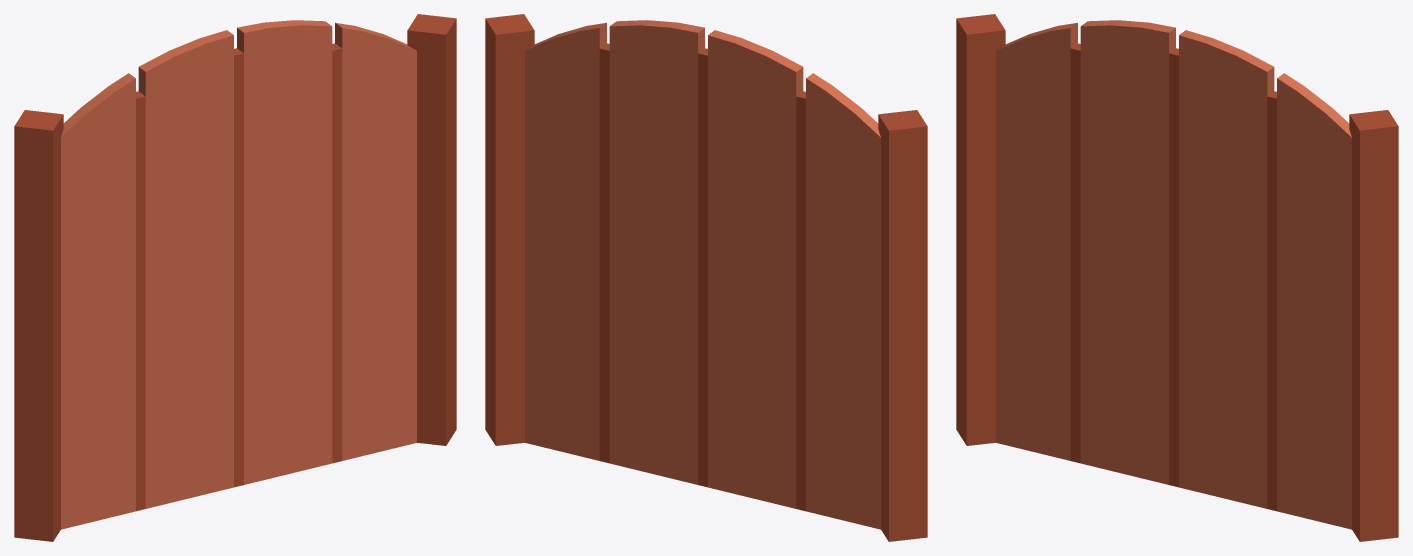
Rendered from fence_gate.glb.
The picture shows the model from 3 angles, left to right: view 1: azimuth 30°, elevation 25°; view 2: azimuth 150°, elevation 25°; view 3: azimuth 330°, elevation 25°; orthographic projection.
Parts seen in each view (by area): view 1: fence_gardenRound%; view 2: fence_gardenRound%; view 3: fence_gardenRound%.
Part boxes in pixels (x1,y1,x2,y2): fence_gardenRound%: [14, 14, 456, 541]; fence_gardenRound%: [485, 14, 927, 541]; fence_gardenRound%: [956, 14, 1398, 541].
Size of the model in its own units: 0.225 by 0.2199 by 0.025.
